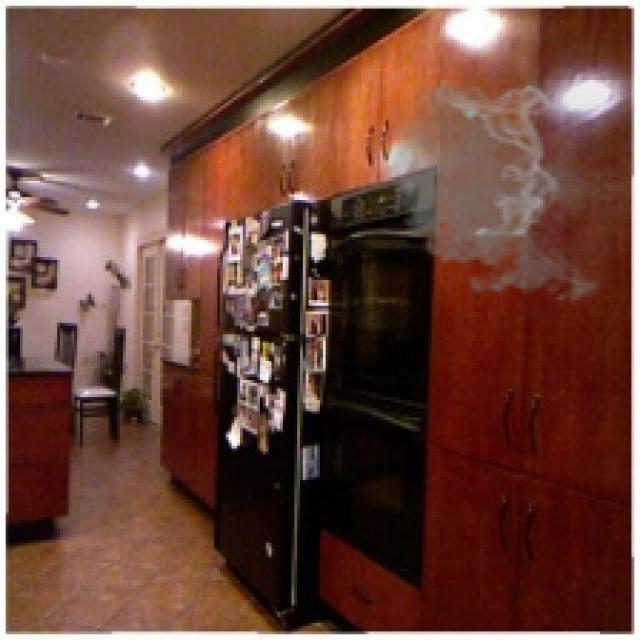smoke: (366, 77, 631, 309)
